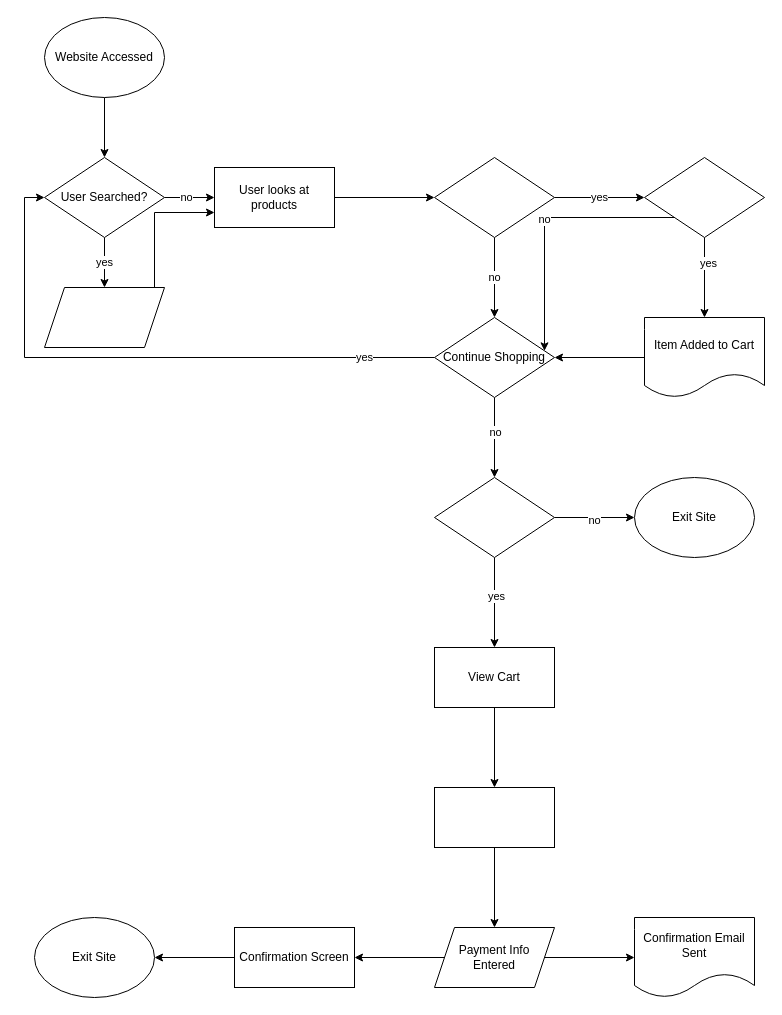
This 782x1015 diagram has some shape labels left out. Here are the shapes that lost their labels. From the top down, the box of each, then its label:
(434, 156, 554, 238): View Specific Product
(644, 156, 764, 238): Add Item to Cart
(44, 286, 164, 348): search data collected
(434, 476, 554, 558): Checkout
(434, 786, 554, 848): View Payment
